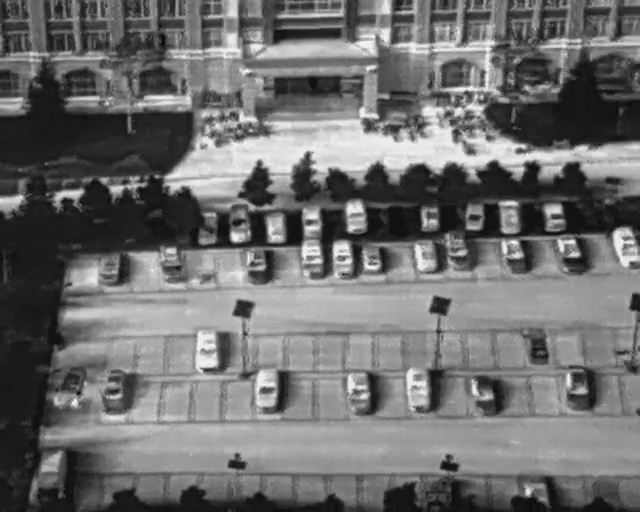Car: (49, 360, 92, 413), (37, 448, 69, 506), (467, 371, 501, 420), (553, 232, 587, 279), (499, 233, 532, 279), (442, 228, 474, 274), (156, 237, 186, 286), (610, 223, 639, 270), (103, 367, 130, 416), (565, 364, 592, 412), (406, 365, 433, 412), (521, 323, 551, 365), (346, 371, 373, 415), (255, 368, 281, 413), (226, 201, 254, 242), (195, 328, 220, 373), (412, 236, 441, 274), (496, 196, 524, 235), (344, 195, 371, 235), (332, 237, 356, 281), (245, 247, 271, 286), (97, 248, 123, 287), (301, 239, 325, 280), (542, 200, 565, 232), (466, 197, 487, 231), (198, 211, 218, 246), (266, 211, 287, 244), (303, 204, 324, 237), (420, 201, 441, 233)
